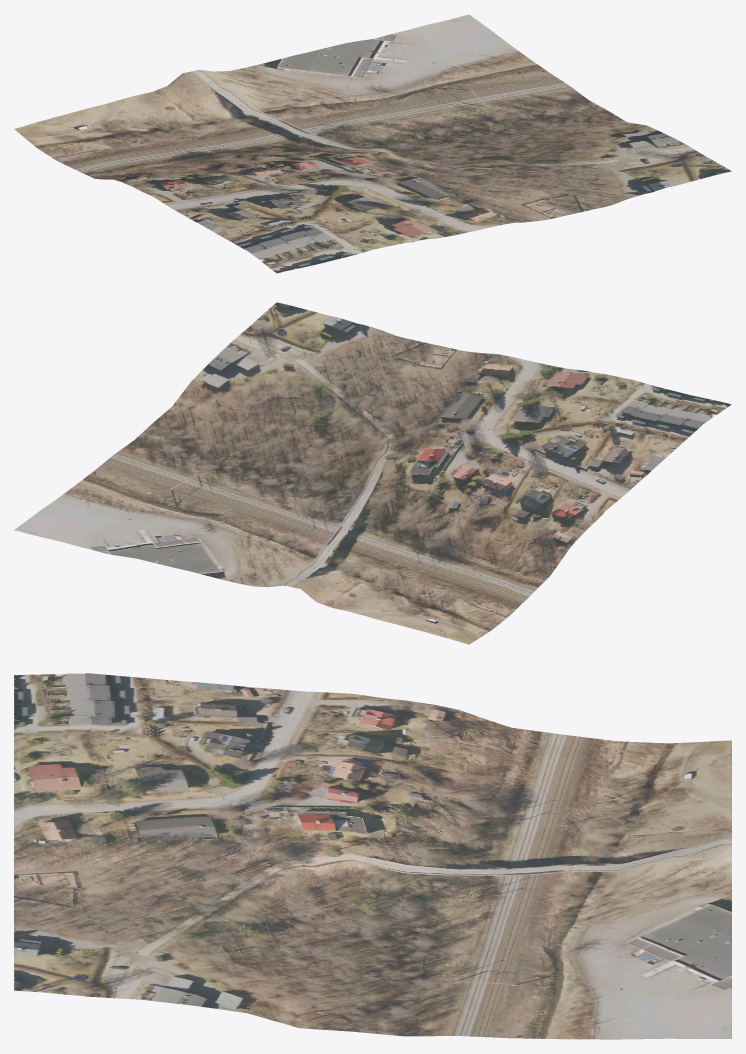
File: CM_Terrain_24491278_6819794.fbx
The picture shows the model from 3 angles, top to bottom: view 1: azimuth 30°, elevation 25°; view 2: azimuth 150°, elevation 25°; view 3: azimuth 270°, elevation 25°; orthographic projection. The views are drawn at different scales.
Parts seen in each view (by area): view 1: CM_Terrain_24491278_6819794_LOD0; view 2: CM_Terrain_24491278_6819794_LOD0; view 3: CM_Terrain_24491278_6819794_LOD0.
Part boxes in pixels (x1=…): CM_Terrain_24491278_6819794_LOD0: x1=14, y1=14, x2=731, y2=273; CM_Terrain_24491278_6819794_LOD0: x1=14, y1=302, x2=731, y2=644; CM_Terrain_24491278_6819794_LOD0: x1=14, y1=673, x2=731, y2=1039.
Size of what is drawn, in the model's own units: 205 by 22.13 by 205.
